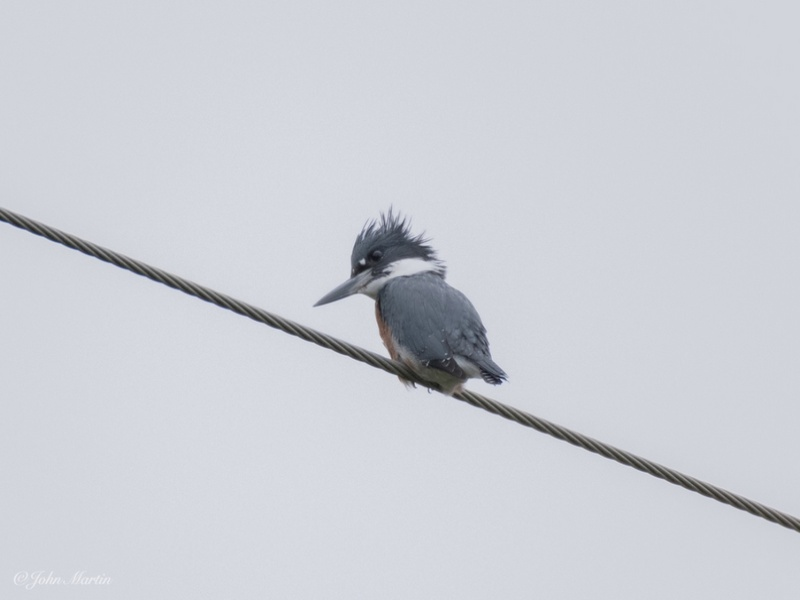kingfisher: (310, 204, 511, 400)
